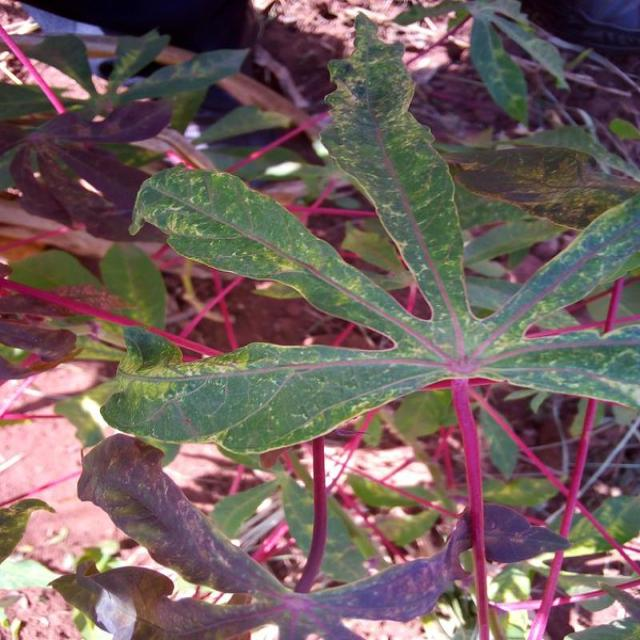cassava leaf: (100, 13, 638, 463)
